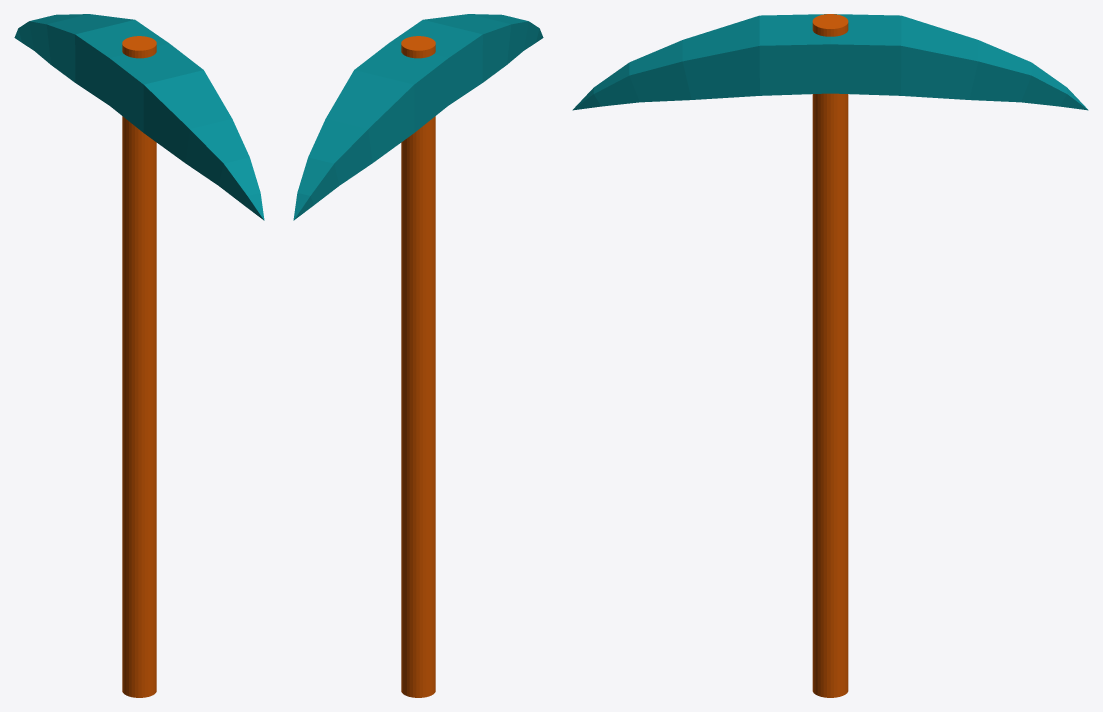
The model's file is pickaxe.glb.
3 renders of one model, left to right at view 1: azimuth 30°, elevation 25°; view 2: azimuth 150°, elevation 25°; view 3: azimuth 270°, elevation 25°, orthographic. The views are drawn at different scales.
Visible parts, largest first — view 1: Cylinder; view 2: Cylinder; view 3: Cylinder.
Boxes of the visible parts, x1=… form: Cylinder: x1=14, y1=14, x2=264, y2=697; Cylinder: x1=293, y1=14, x2=543, y2=697; Cylinder: x1=572, y1=14, x2=1088, y2=697.
Bounding box in the file's own units: 0.15 × 1.54 × 1.08.
